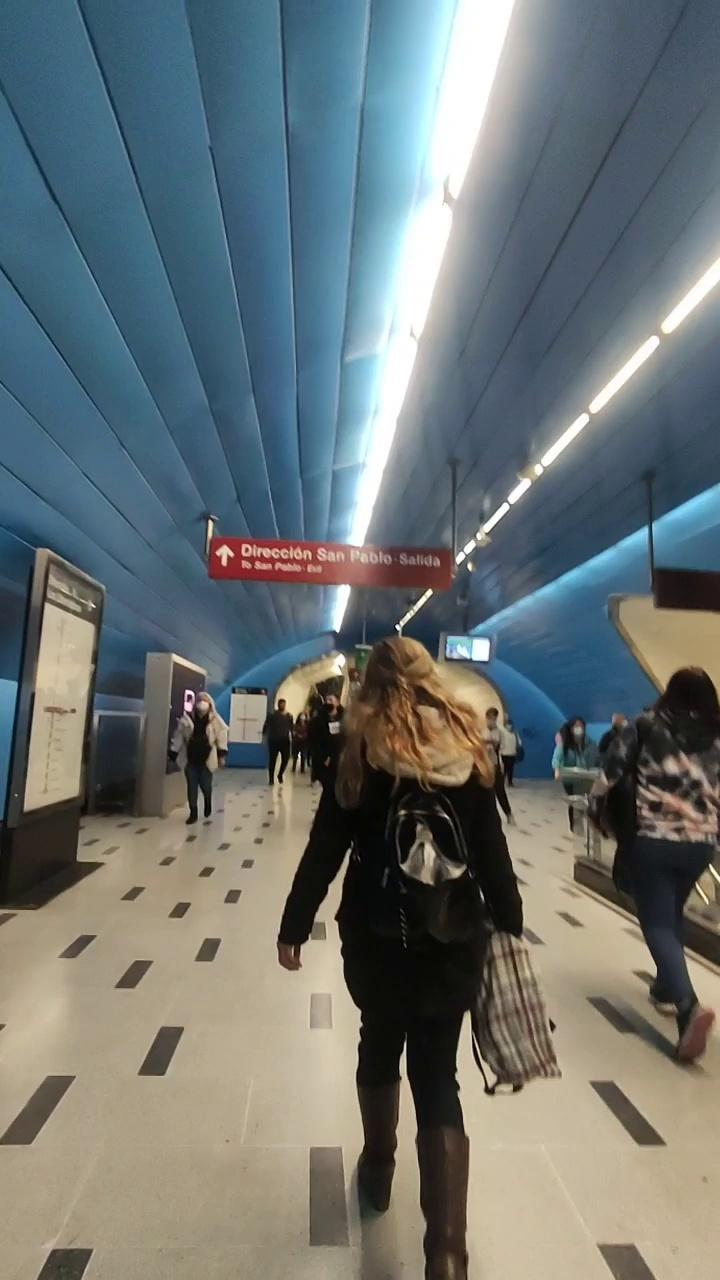up arrow: (214, 544, 236, 570)
